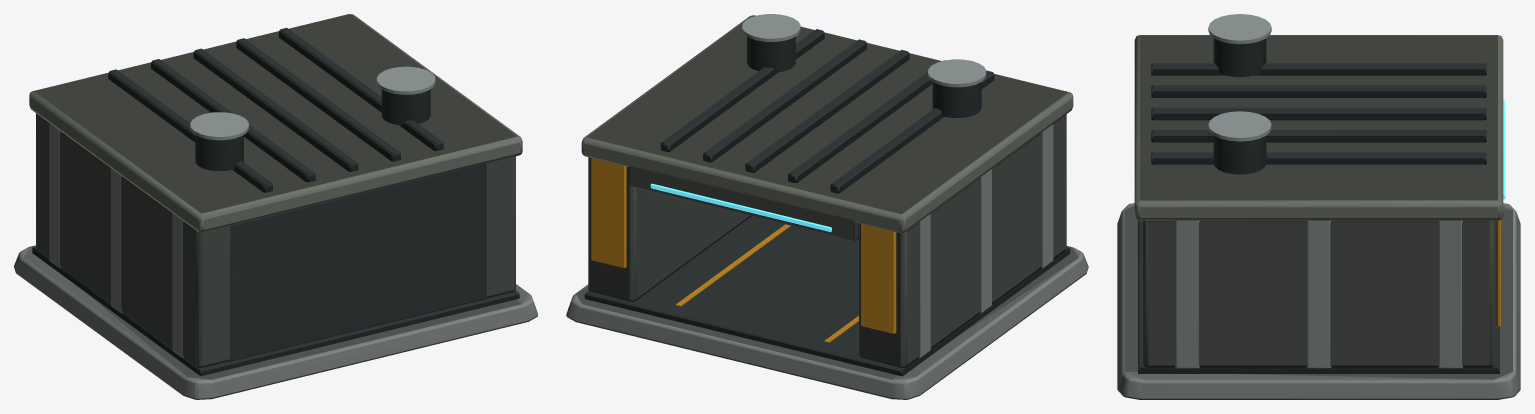
File: VehicleFactory.glb
The picture shows the model from 3 angles, left to right: view 1: azimuth 30°, elevation 25°; view 2: azimuth 150°, elevation 25°; view 3: azimuth 270°, elevation 25°; orthographic projection. The views are drawn at different scales.
Parts seen in each view (by area): view 1: export_VehicleFactory_Foundation; view 2: export_VehicleFactory_Foundation; view 3: export_VehicleFactory_Foundation.
Part boxes in pixels (x1,y1,x2,y2): export_VehicleFactory_Foundation: [14, 14, 537, 399]; export_VehicleFactory_Foundation: [566, 14, 1088, 399]; export_VehicleFactory_Foundation: [1117, 14, 1520, 399].
Size of the model in its own units: 6.63 by 3.9 by 6.13.
